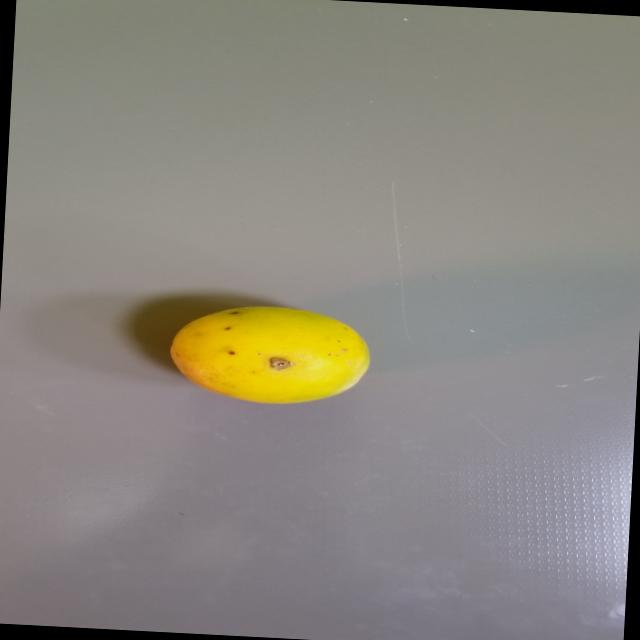Ripe orange: (136, 290, 390, 418)
